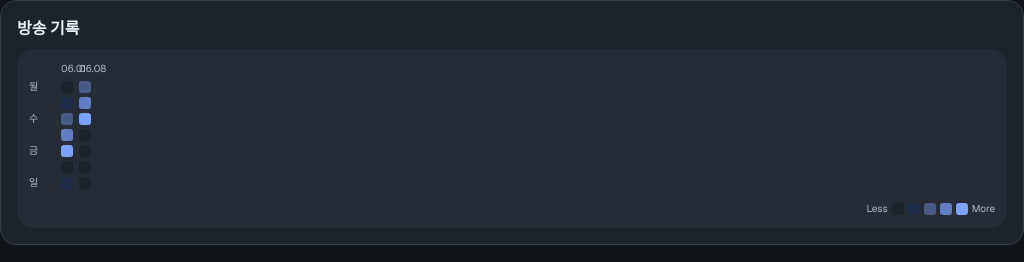
Test: BroadcastContributionGraph › 칸을 누르면 해당 일의 대표 방송을 팝오버로 보여주고 document.body에 렌더링한다
The width and height of the screenshot is (1024, 262).
Note: 03 칸을 클릭한다
Click the button named "06.03 방송 기록" at coordinates (67, 119), box x1=61 y1=113 x2=73 y2=125
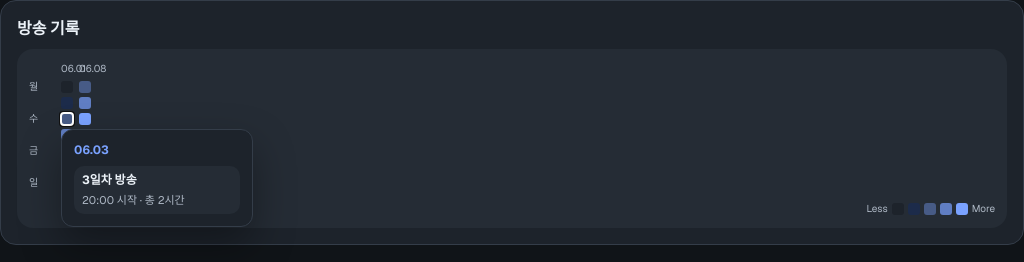
expect the text "20:00 시작 · 총 2시간" is shown: met, box x1=82 y1=193 x2=185 y2=207
